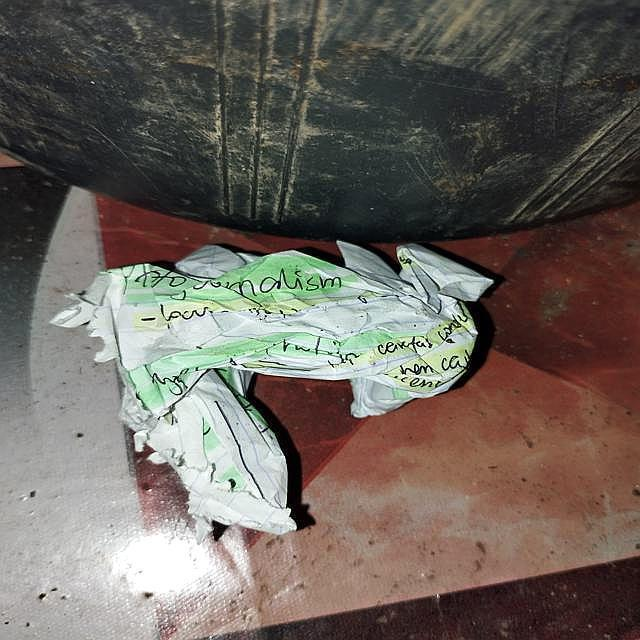Biodegradable: (79, 243, 507, 535)
